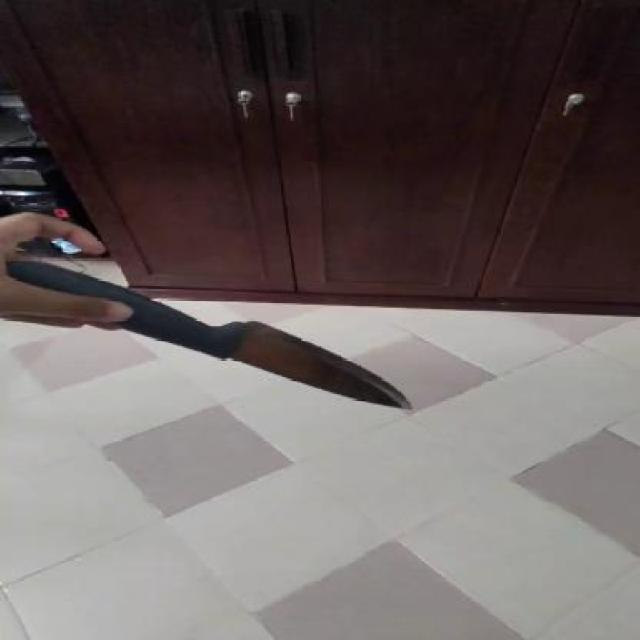knife: (183, 299, 442, 423)
